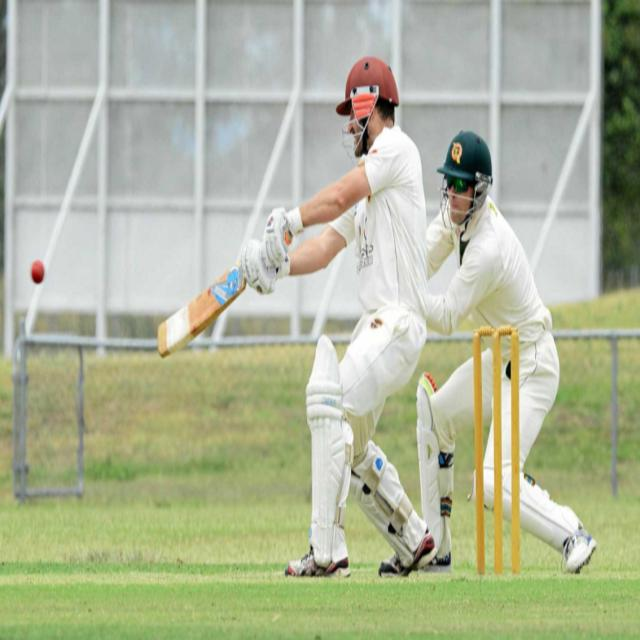ball: (30, 258, 46, 283)
stump: (476, 326, 518, 574)
